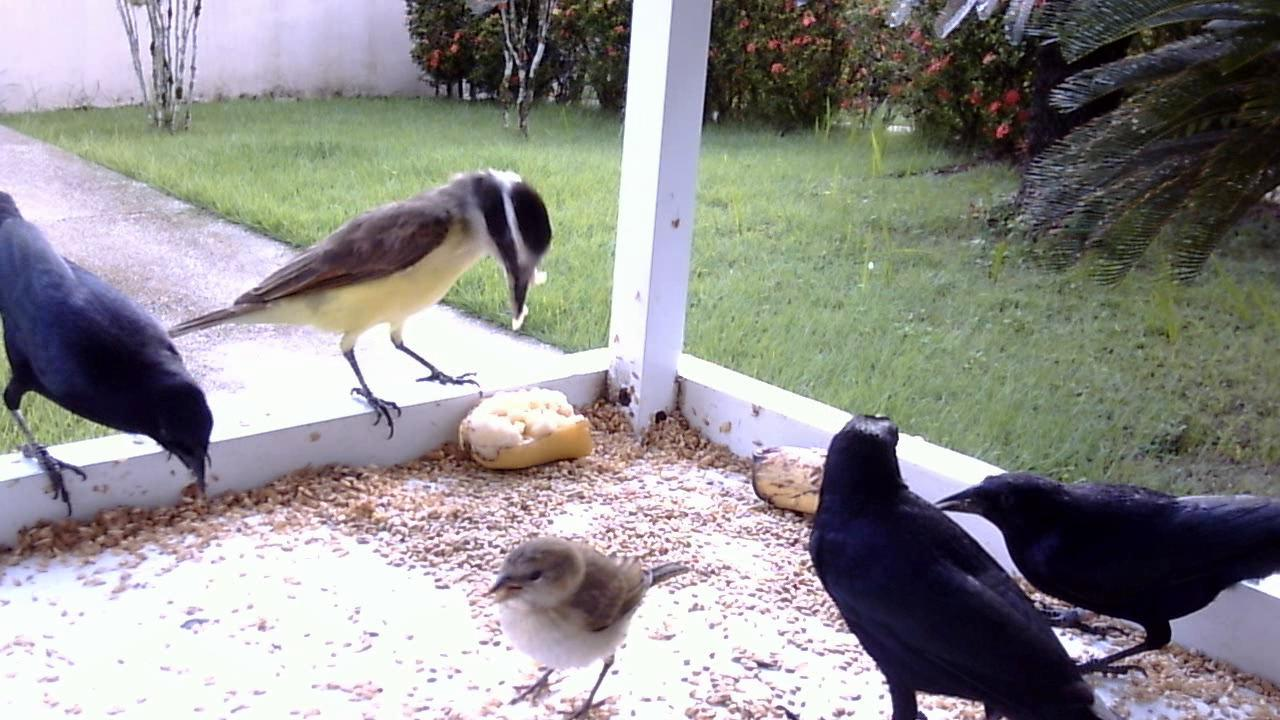bem_te_vi: (160, 162, 560, 450)
canario_do_amazonas: (474, 530, 704, 720)
chupim: (794, 411, 1150, 720), (1, 175, 224, 520), (938, 458, 1267, 680)
